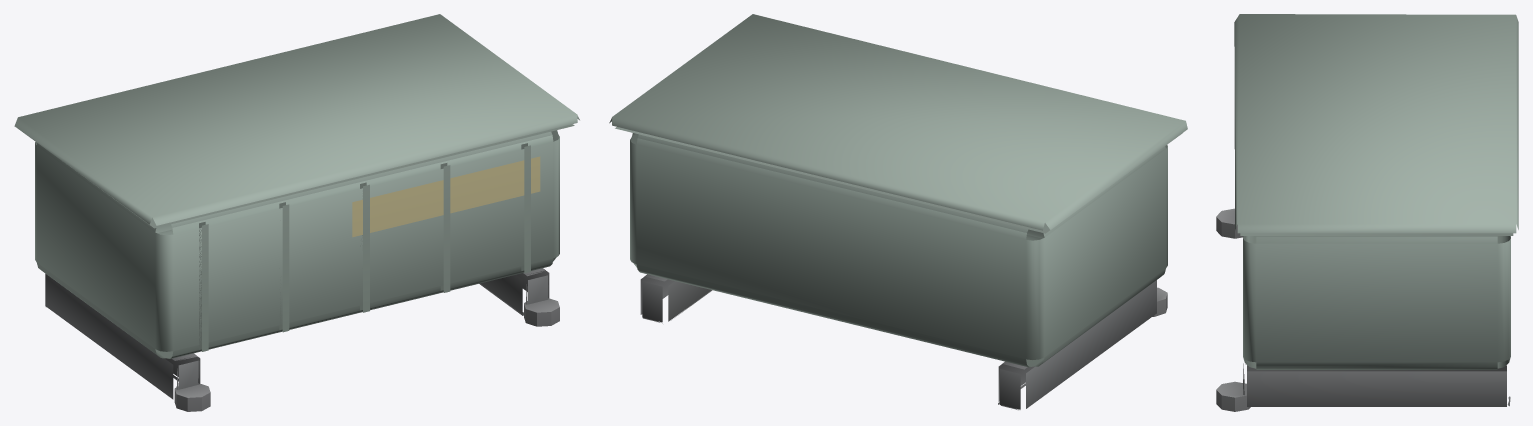
The model's file is dumpster.lod.glb.
3 renders of one model, left to right at view 1: azimuth 30°, elevation 25°; view 2: azimuth 150°, elevation 25°; view 3: azimuth 270°, elevation 25°, orthographic. The views are drawn at different scales.
Bounding box in the file's own units: 3.2 × 1.39 × 1.92.
